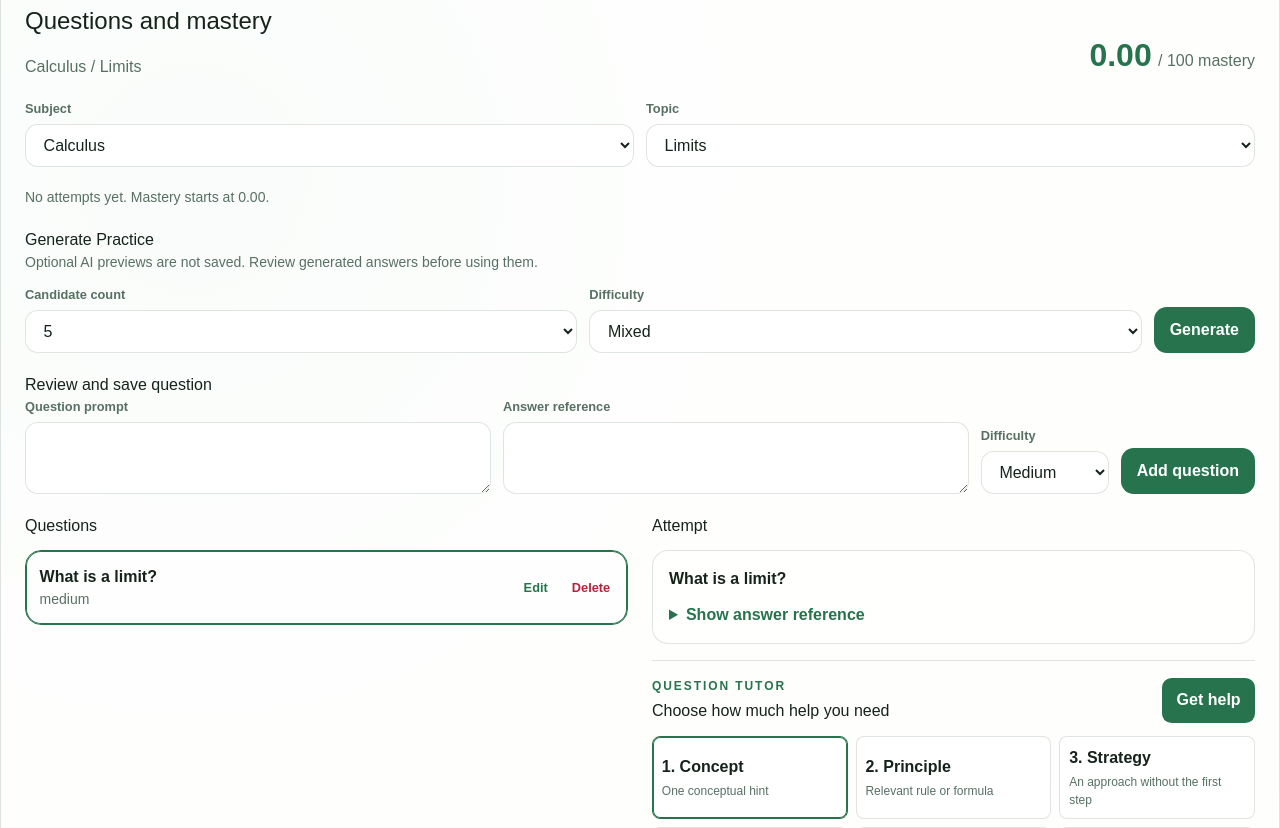
PracticeManager › keeps Tutor help separate from Attempt fields and hides the answer by default
Click the heading "Show answer reference": (775, 615) [686, 606, 865, 624]
(page scrolled)
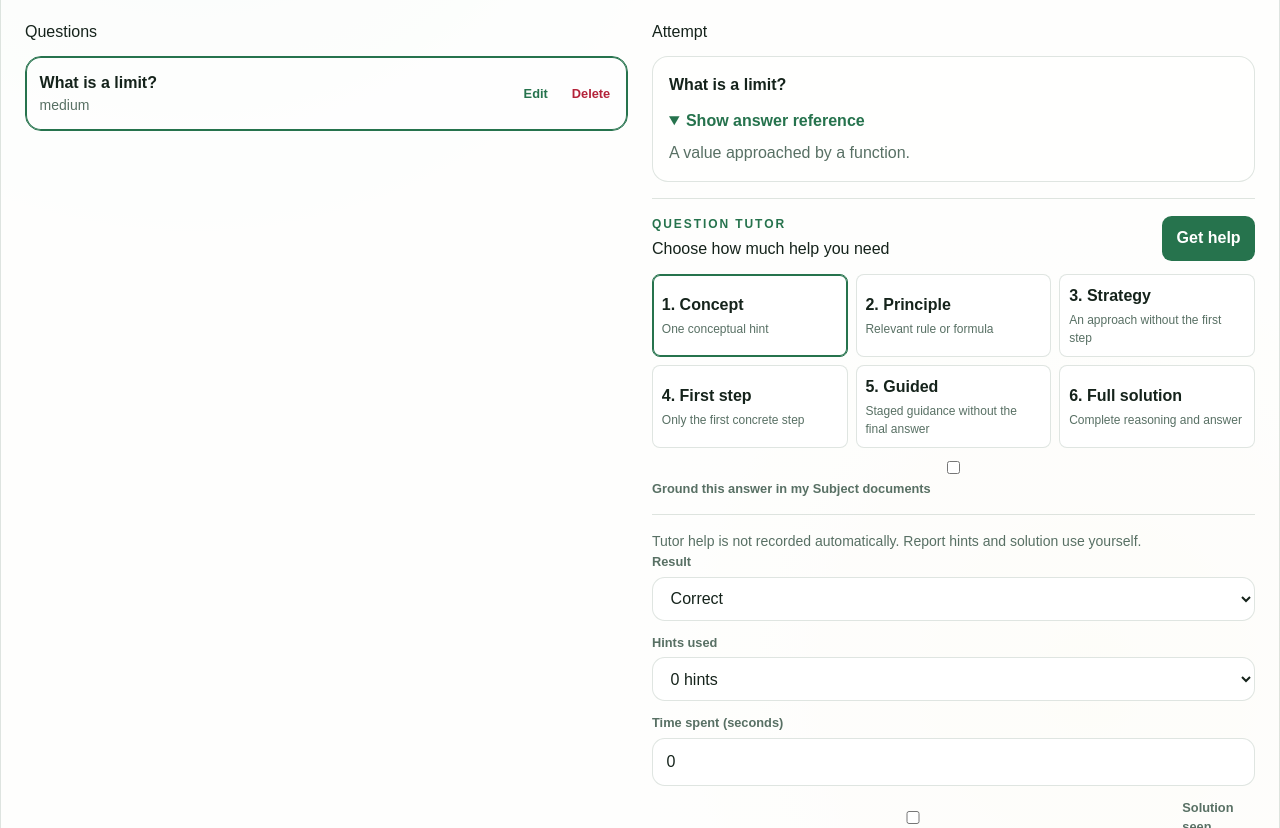
Check: the text "Show answer reference" has attribute open, box [669, 112, 910, 162]
Click the radio button labelled "6. Full solution Complete reasoning and answer": (1157, 406) [1059, 365, 1255, 448]
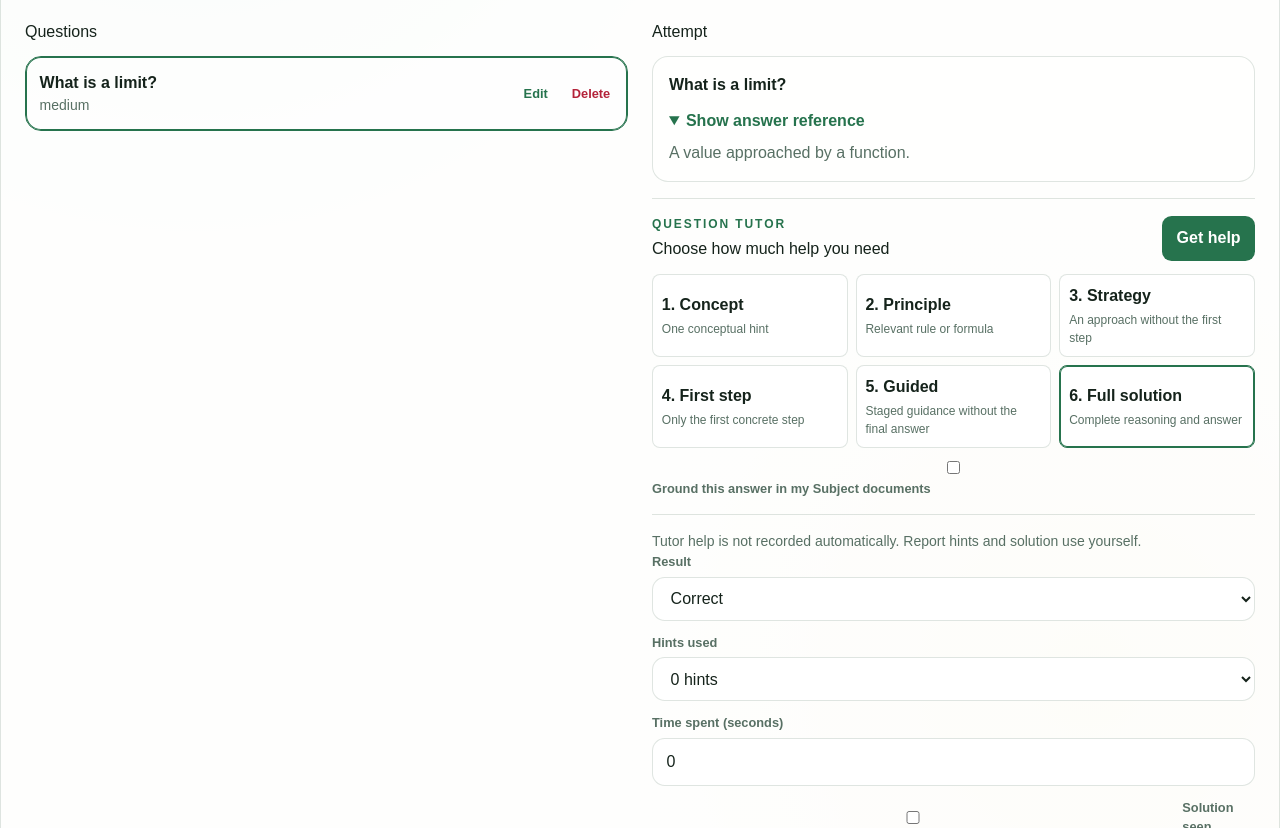
Click the button "Get help": (1209, 238) [1162, 216, 1255, 261]
(page scrolled)
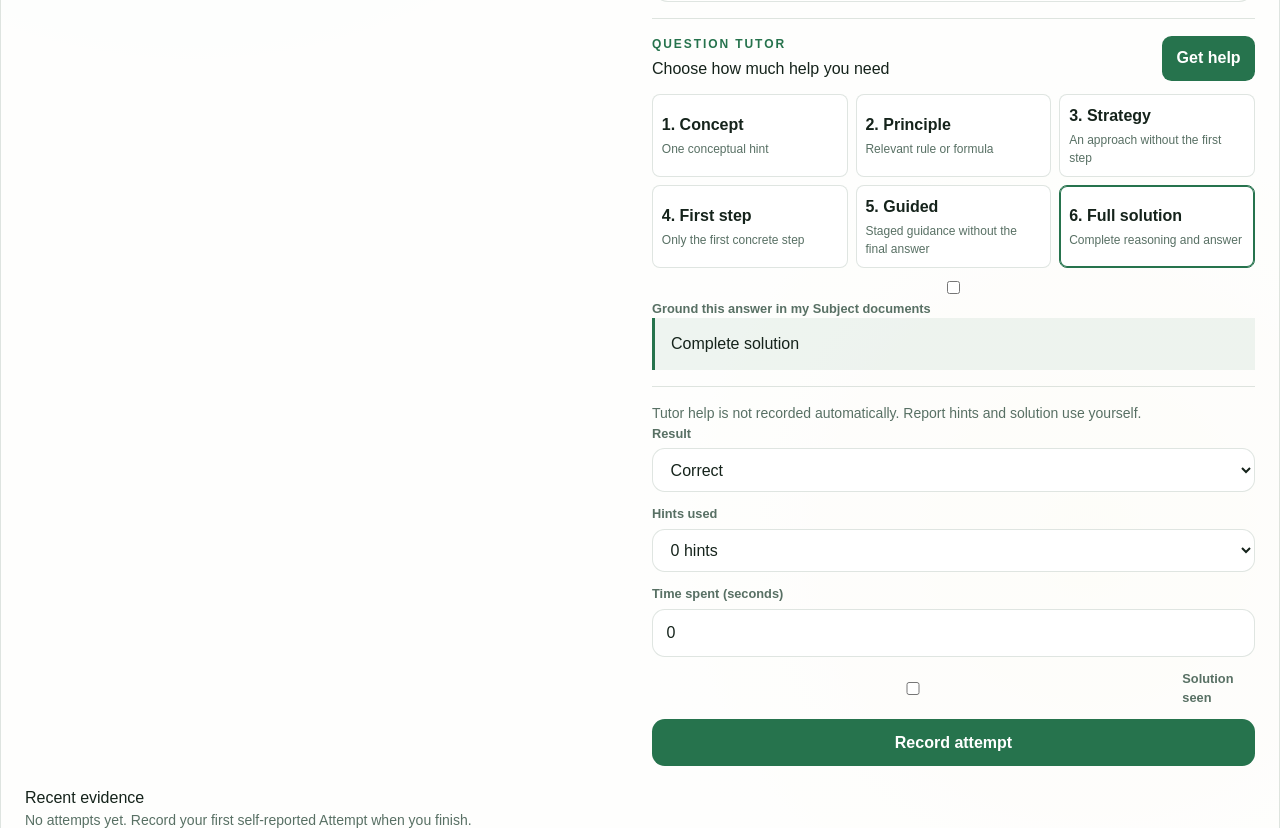
Check: the dropdown labelled "Hints used" shows "0 hints", box [652, 528, 1255, 572]
Check: the text "Complete solution" is shown, box [652, 318, 1255, 370]
